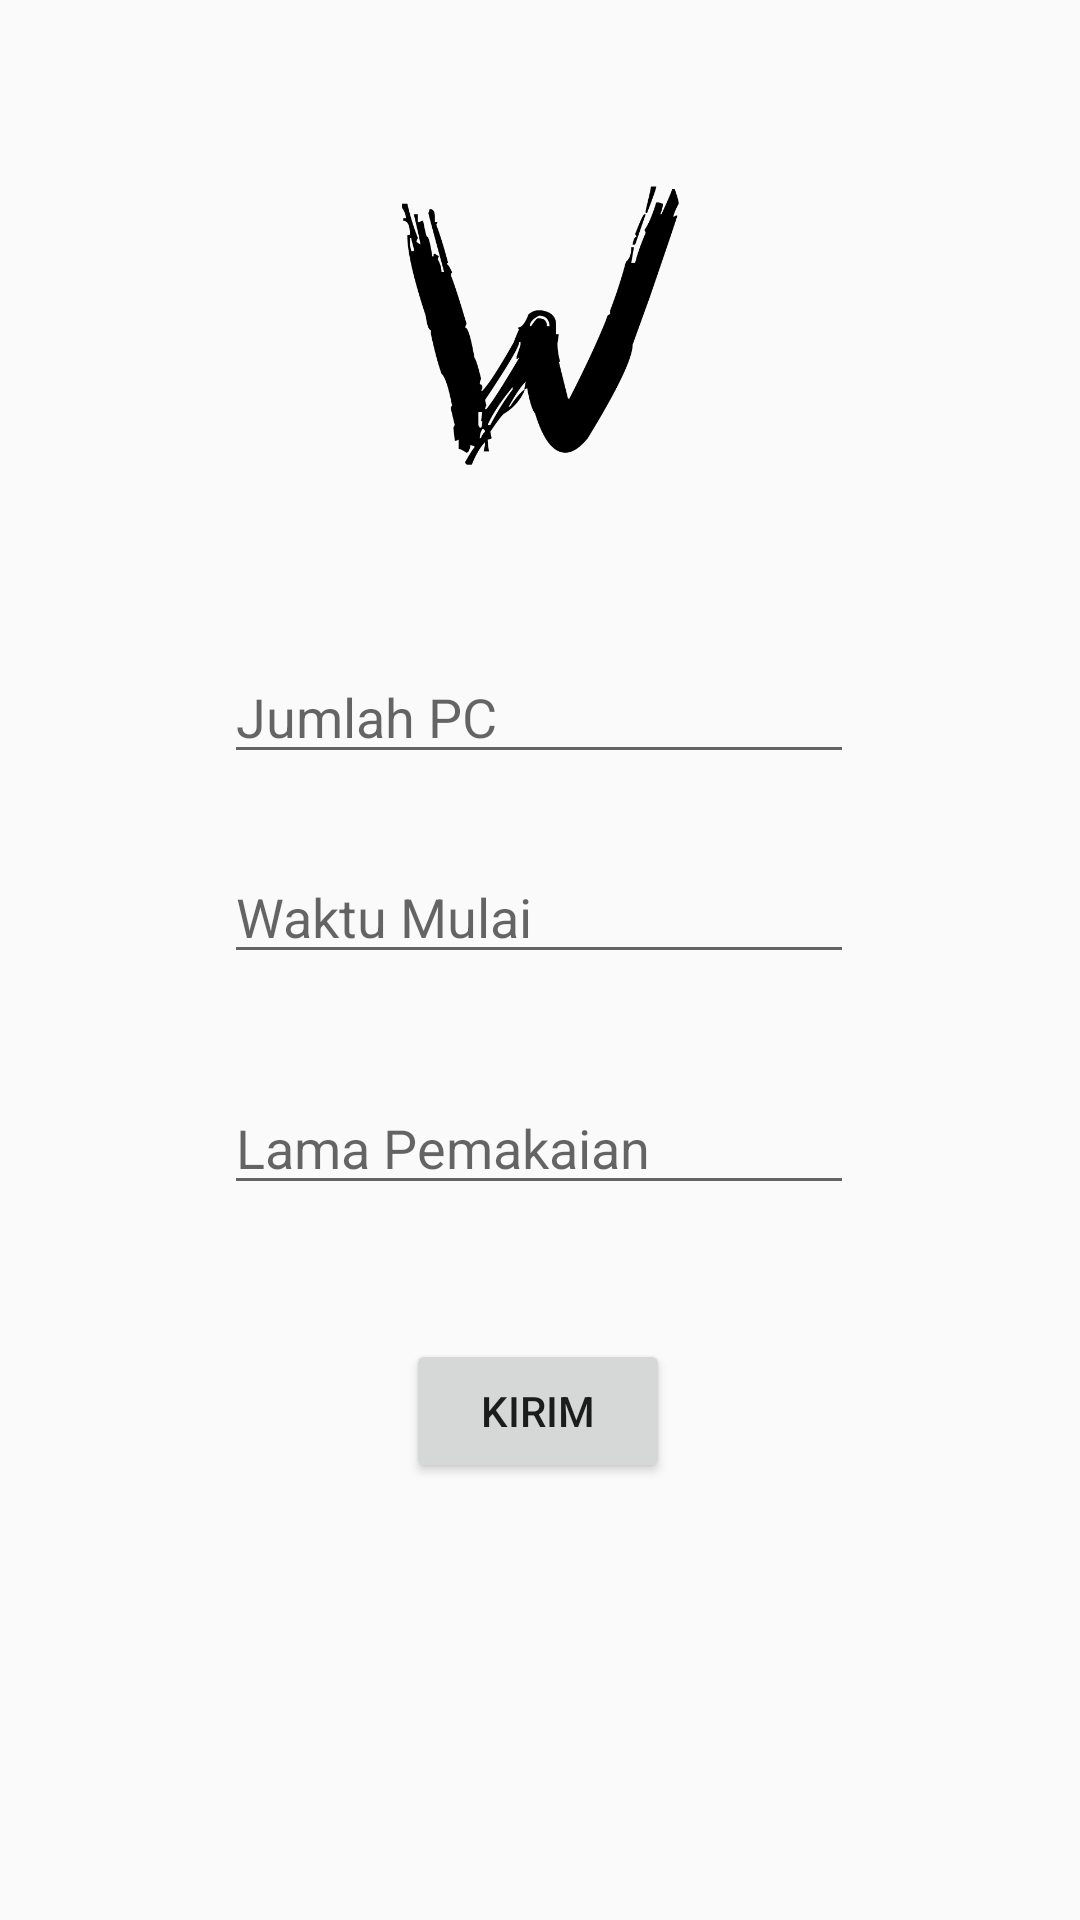

Icon bounding boxes for this 1080 × 1920 phone screenshot, format (x1, y1, x2, y2):
Gambar: (402, 186, 679, 465)
